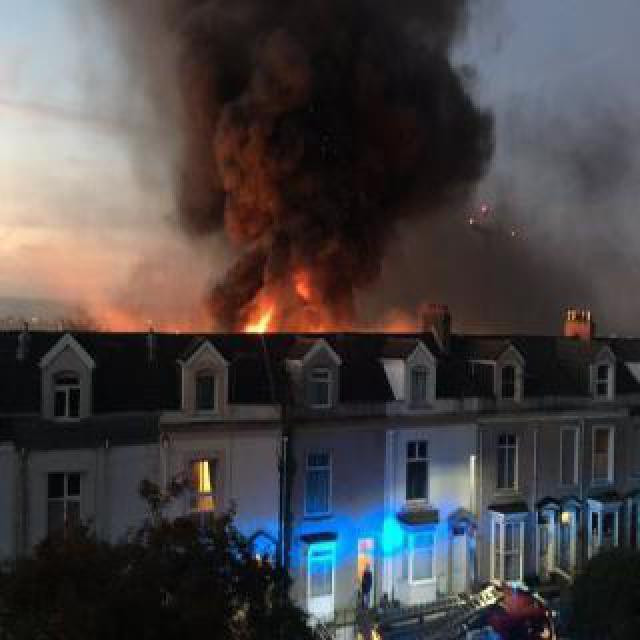Fire: (296, 270, 322, 328), (242, 300, 282, 334)
Smoke: (148, 0, 499, 305)
